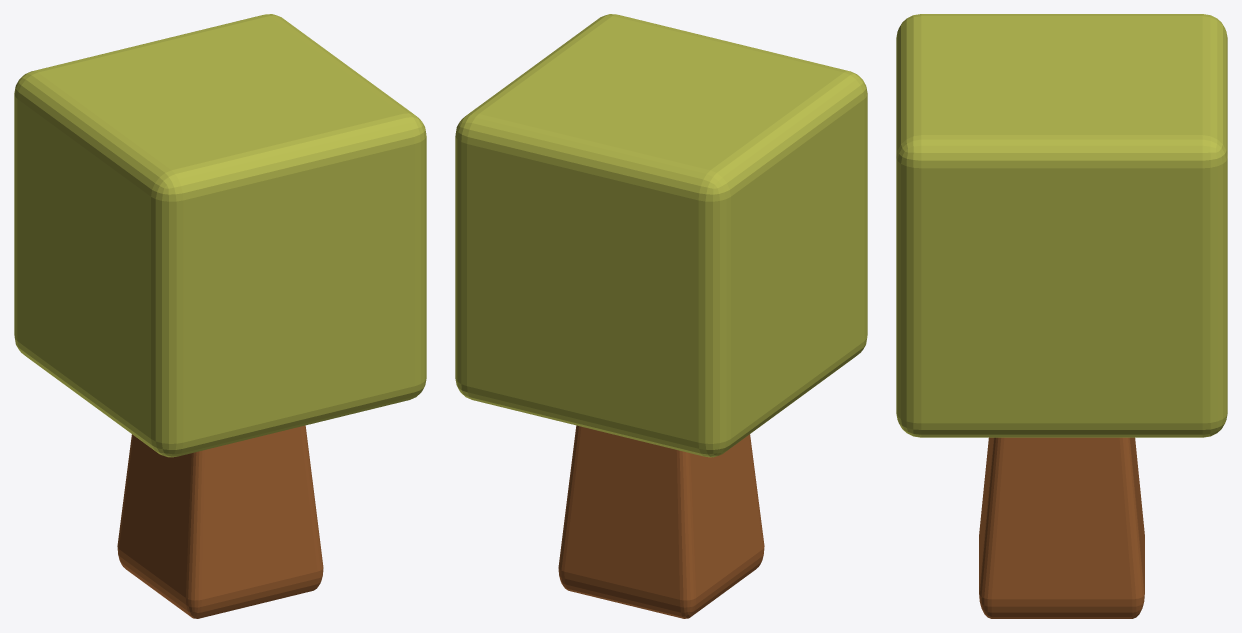
File: tree1.fbx
3 views of the same model, side by side, from view 1: azimuth 30°, elevation 25°; view 2: azimuth 150°, elevation 25°; view 3: azimuth 270°, elevation 25° (orthographic). The views are drawn at different scales.
Visible parts, largest first — view 1: Cube, Cube.001; view 2: Cube, Cube.001; view 3: Cube, Cube.001.
Boxes of the visible parts, x1,y1,x2,y2 form: Cube: (14, 14, 426, 457); Cube.001: (117, 425, 323, 618); Cube: (455, 14, 867, 457); Cube.001: (558, 425, 764, 618); Cube: (896, 14, 1227, 437); Cube.001: (979, 437, 1144, 618).
Size of the model in its own units: 600 by 1025 by 600.
